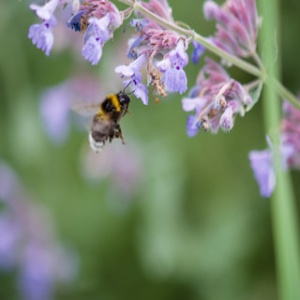bee: (86, 89, 132, 159)
